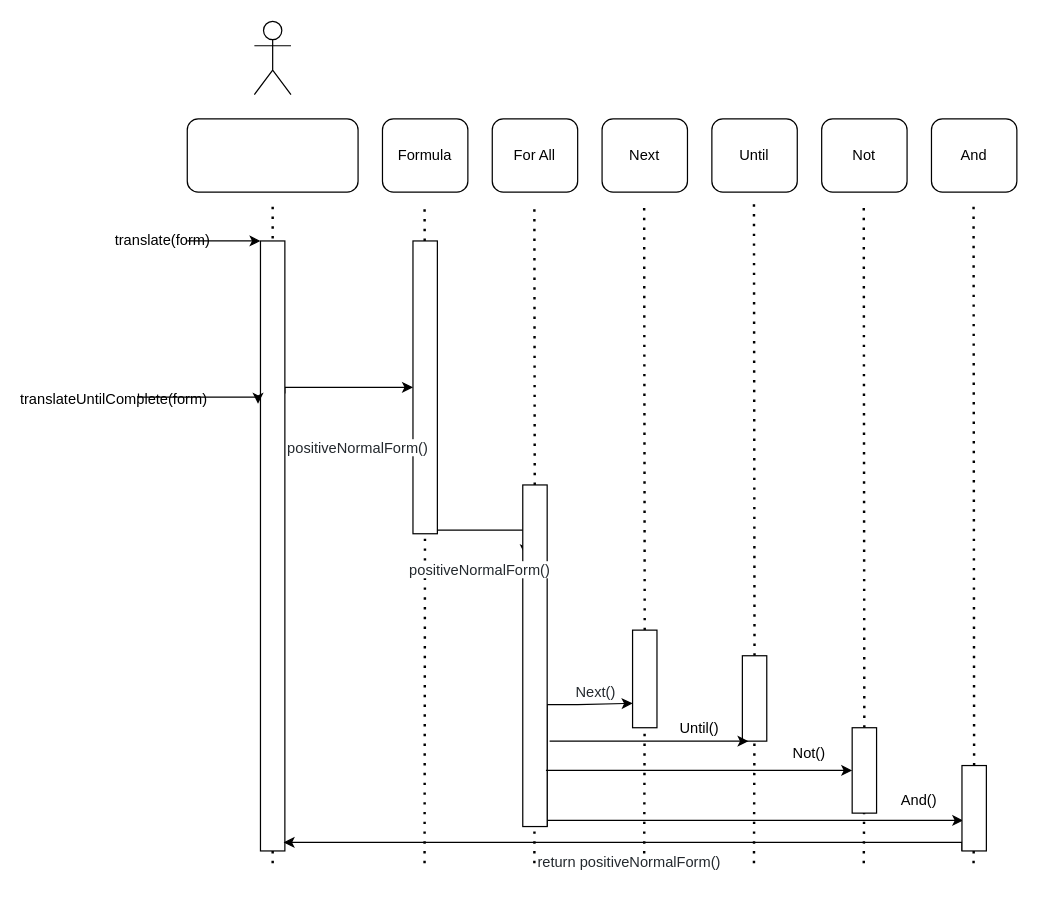
This 1038x897 diagram has some shape labels left out. The centre of each missing label's shape, as x and y in pixels:
PositiveNormalForm: pixel 272 155
User: pixel 272 57
